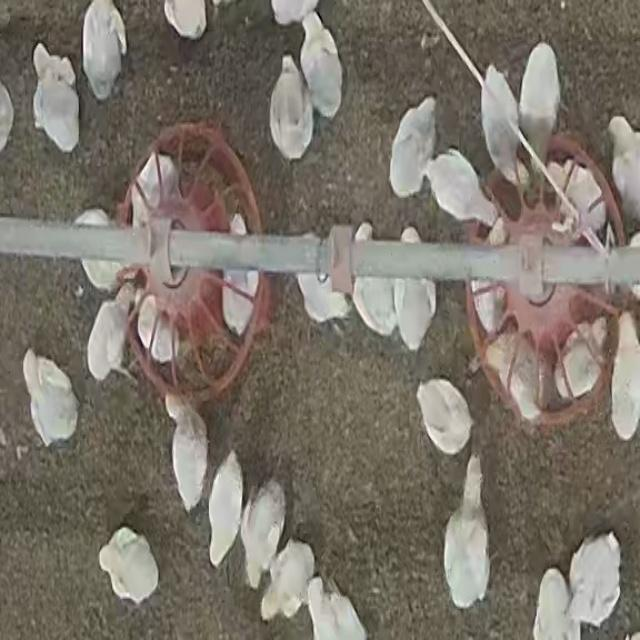chicken: (442, 455, 494, 609), (477, 64, 528, 191), (564, 531, 622, 627), (522, 39, 563, 173), (384, 100, 438, 201), (484, 338, 551, 418), (423, 152, 495, 225), (86, 291, 140, 388), (23, 351, 77, 447), (166, 394, 209, 514), (298, 14, 346, 120), (396, 223, 436, 349), (98, 527, 160, 604), (550, 318, 608, 400), (242, 478, 286, 586), (351, 225, 391, 342), (33, 49, 76, 154), (544, 158, 603, 234), (298, 248, 350, 334), (608, 307, 640, 445), (527, 564, 585, 640), (221, 211, 255, 337), (414, 376, 469, 453), (268, 55, 308, 160), (207, 453, 244, 566), (262, 542, 315, 620), (75, 208, 123, 294), (606, 107, 640, 223), (84, 0, 124, 98), (306, 578, 368, 638), (131, 153, 179, 230), (474, 222, 507, 328), (144, 293, 178, 366), (165, 0, 212, 39), (270, 1, 322, 28)
